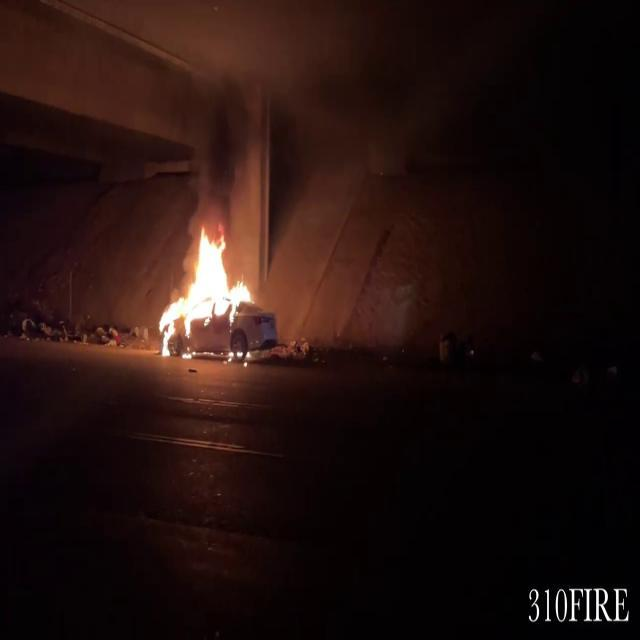Fire: (152, 222, 261, 358)
Smoke: (186, 74, 264, 227)
